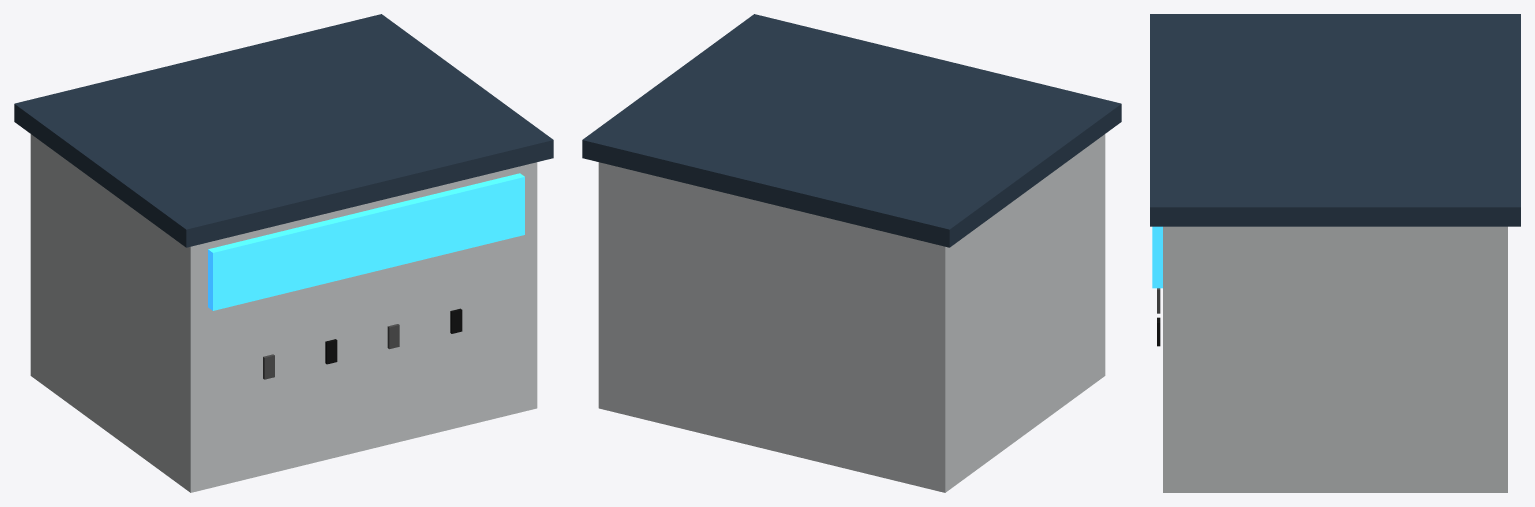
Rendered from shophouse.glb.
3 renders of one model, left to right at view 1: azimuth 30°, elevation 25°; view 2: azimuth 150°, elevation 25°; view 3: azimuth 270°, elevation 25°, orthographic. The views are drawn at different scales.
Parts seen in each view (by area): view 1: phone-shop; view 2: phone-shop; view 3: phone-shop.
Boxes of the visible parts, x1,y1,x2,y2 form: phone-shop: (14,14,553,492); phone-shop: (582,14,1121,492); phone-shop: (1150,14,1520,492).
Bounding box in the file's own units: 5.3 × 3.73 × 4.3.
